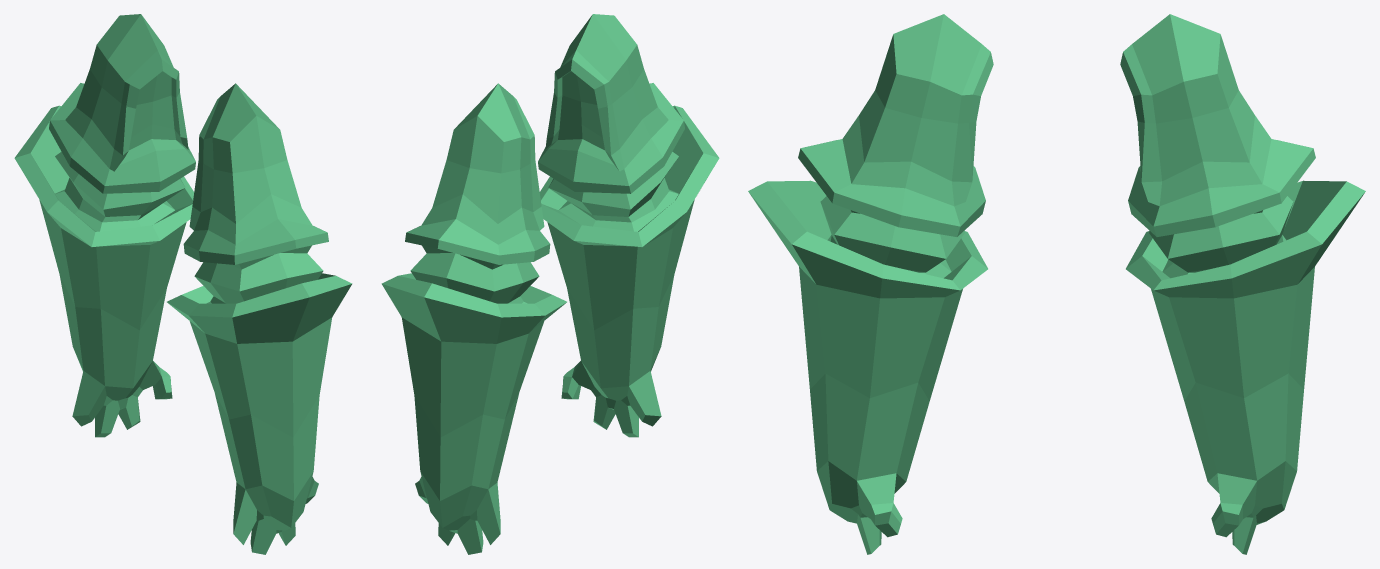
Rendered from forearms_variant-3.glb.
3 views of the same model, side by side, from view 1: azimuth 30°, elevation 25°; view 2: azimuth 150°, elevation 25°; view 3: azimuth 270°, elevation 25° (orthographic). The views are drawn at different scales.
Visible parts, largest first — view 1: arm-02; view 2: arm-02; view 3: arm-02.
Boxes of the visible parts, bbox=[...] form: arm-02: bbox=[14, 14, 352, 554]; arm-02: bbox=[381, 14, 719, 554]; arm-02: bbox=[748, 14, 1365, 554].
Size of the model in its own units: 1.04 by 3.28 by 3.44.
